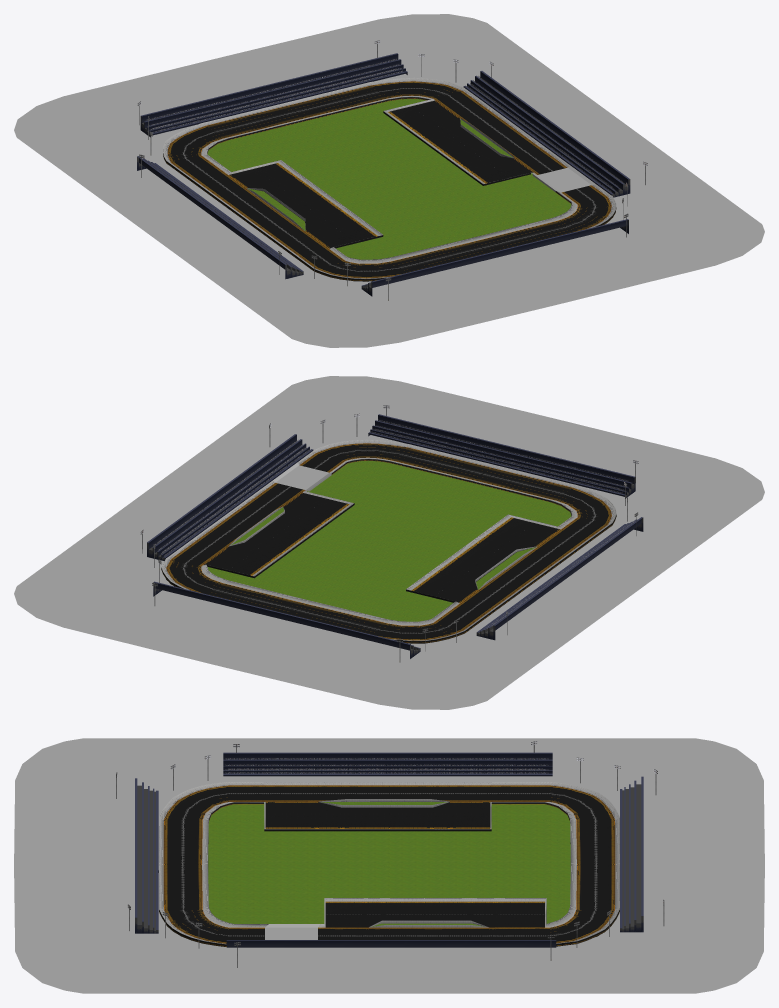
Rendered from Road.fbx.
The picture shows the model from 3 angles, top to bottom: view 1: azimuth 30°, elevation 25°; view 2: azimuth 150°, elevation 25°; view 3: azimuth 270°, elevation 25°; orthographic projection. The views are drawn at different scales.
Visible parts, largest first — view 1: Tiles2, polySurface2, Ciment1, Grass2, Stadium1, People1, RoadMarks1, Lights1; view 2: Tiles2, polySurface2, Ciment1, Grass2, Stadium1, People1, RoadMarks1, Lights1; view 3: Tiles2, Ciment1, polySurface2, Grass2, Stadium1, People1, RoadMarks1, Lights1.
Boxes of the visible parts, x1,y1,x2,y2 form: Tiles2: [55, 32, 723, 329]; polySurface2: [163, 77, 616, 281]; Ciment1: [14, 14, 764, 347]; Grass2: [207, 99, 571, 259]; Stadium1: [137, 53, 630, 296]; People1: [144, 59, 622, 269]; RoadMarks1: [532, 166, 595, 192]; Lights1: [137, 40, 647, 300]; Tiles2: [55, 394, 723, 691]; polySurface2: [161, 439, 616, 643]; Ciment1: [14, 376, 764, 709]; Grass2: [207, 460, 571, 621]; Stadium1: [147, 414, 643, 658]; People1: [153, 419, 635, 629]; RoadMarks1: [273, 462, 331, 491]; Lights1: [140, 405, 638, 662]; Tiles2: [55, 752, 723, 979]; Ciment1: [14, 738, 764, 993]; polySurface2: [158, 782, 619, 946]; Grass2: [208, 802, 570, 926]; Stadium1: [135, 752, 643, 947]; People1: [225, 758, 548, 773]; RoadMarks1: [265, 924, 319, 939]; Lights1: [116, 741, 664, 967].
Bounding box in the file's own units: 10944 × 599 × 13601.
